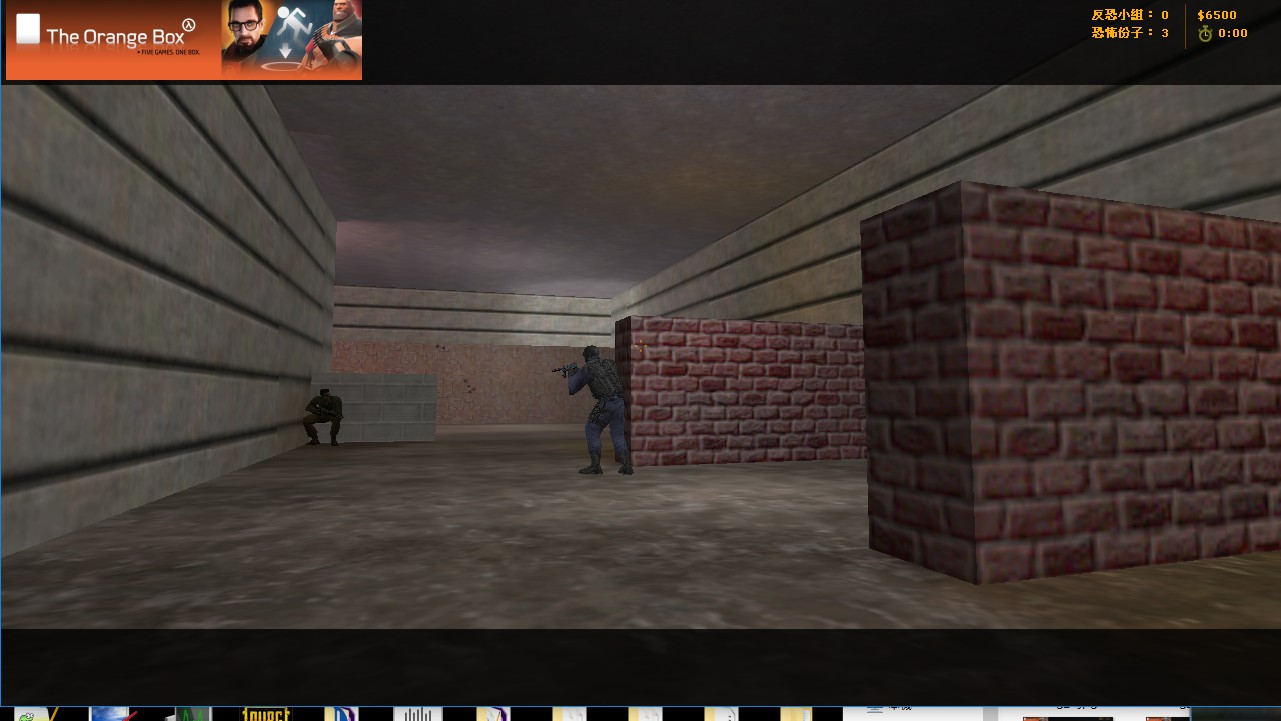person: (551, 330, 648, 481), (294, 385, 350, 446)
